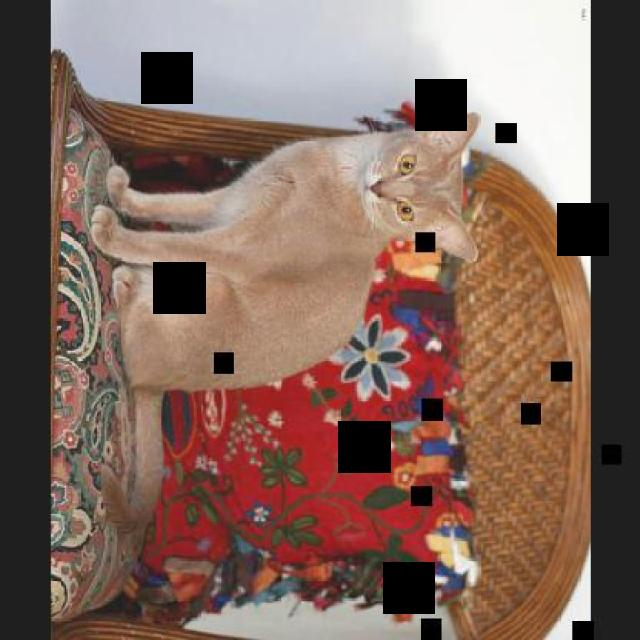unauthorized: (83, 108, 480, 603)
